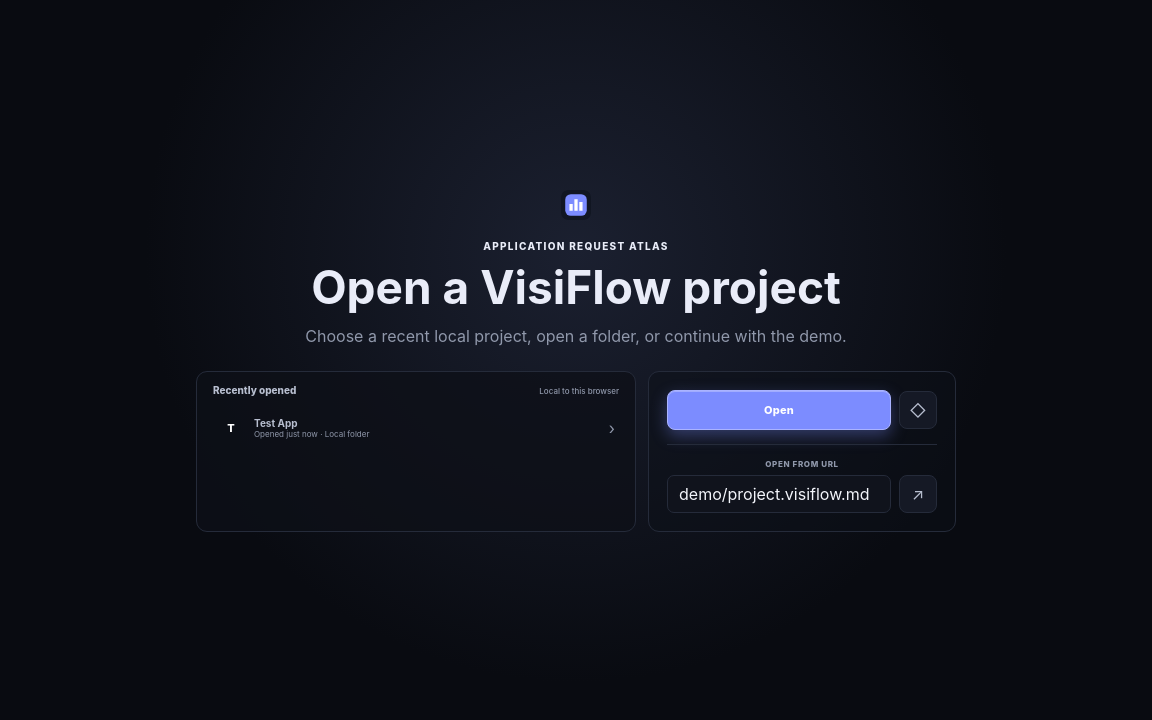
Test: unified workspace › keeps URL projects read-only
This screenshot has width=1152, height=720.
Click the button named "Open demo": point(918, 410) [899,391,937,429]
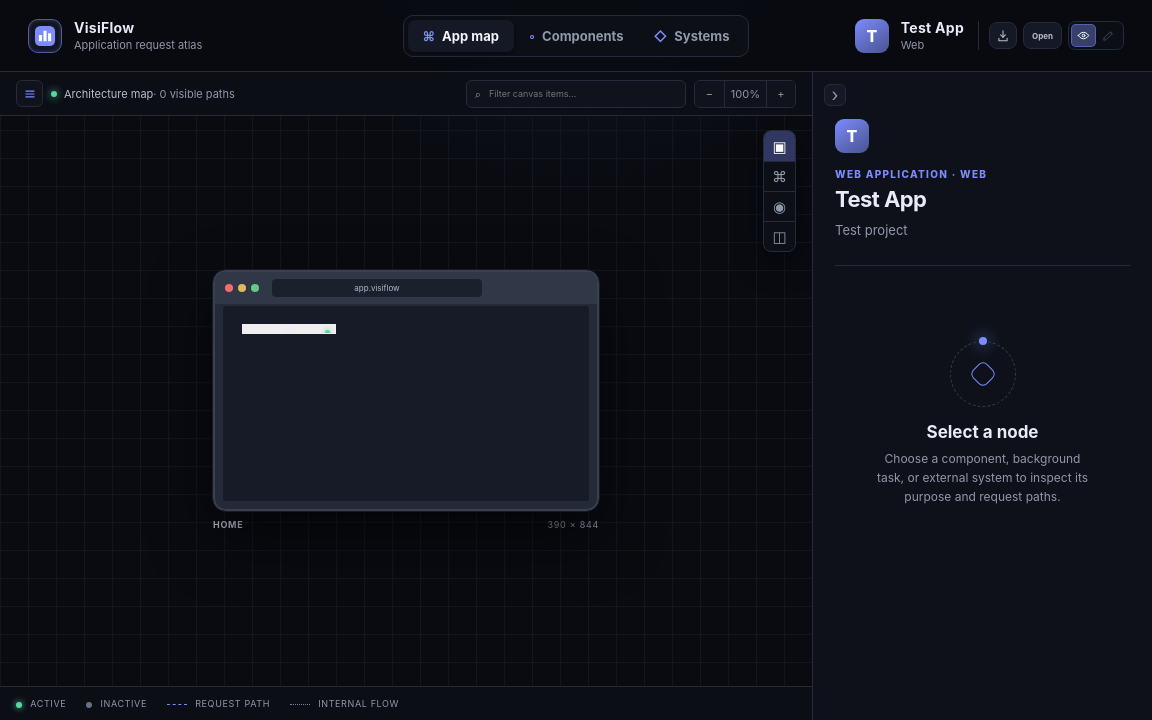
Expected: the button named "Edit" is disabled, [1096,24,1121,47]
